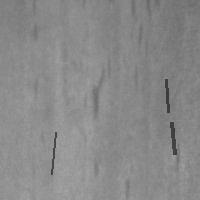inclusion: (126, 1, 157, 98), (75, 58, 115, 123), (166, 137, 188, 177), (28, 74, 43, 104), (49, 130, 57, 176), (28, 21, 42, 46), (169, 120, 176, 156), (164, 77, 170, 114)
